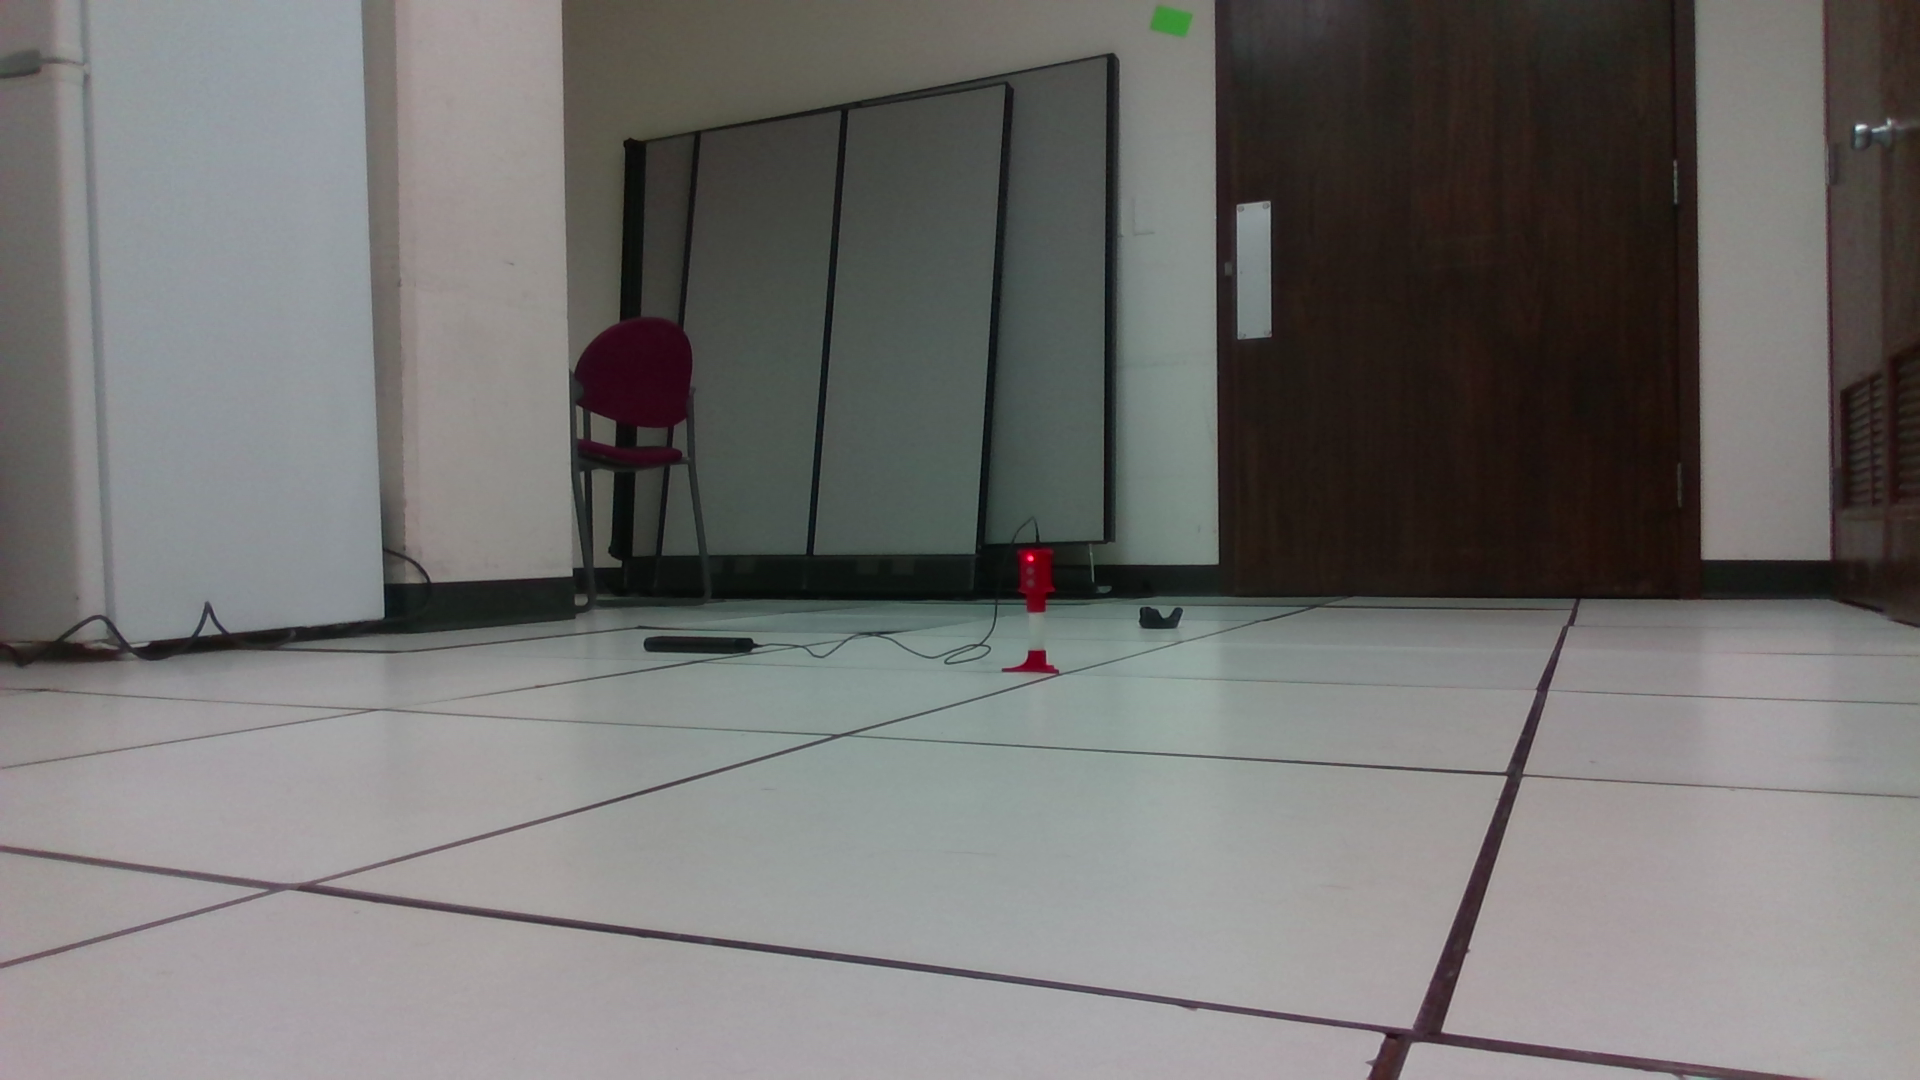stoplight: (1017, 547, 1058, 616)
